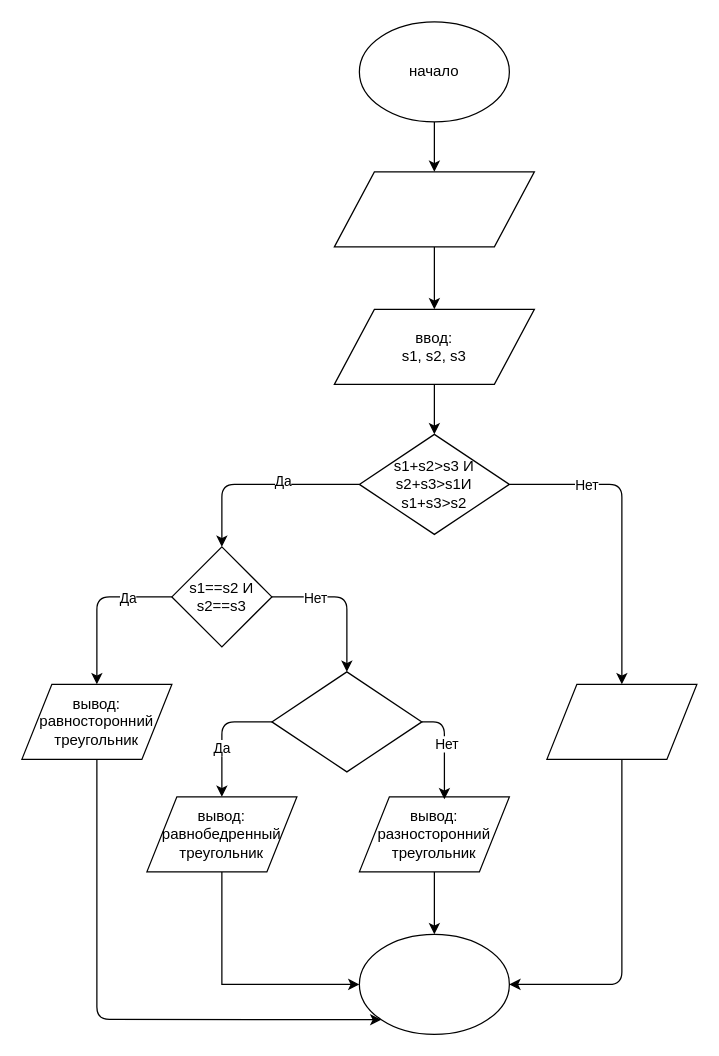
Some shapes in this 719 by 1056 pixel diagram are drawn without their labels. Here are the shapes that lost their labels. From the top down, the centre of each, then its label:
point (433, 209): вывод: введите длины трех отрезков
point (346, 721): s1==s2 ИЛИ s2==s3 ИЛИ s1==s3
point (621, 721): вывод: треугольника не существует
point (433, 983): конец
